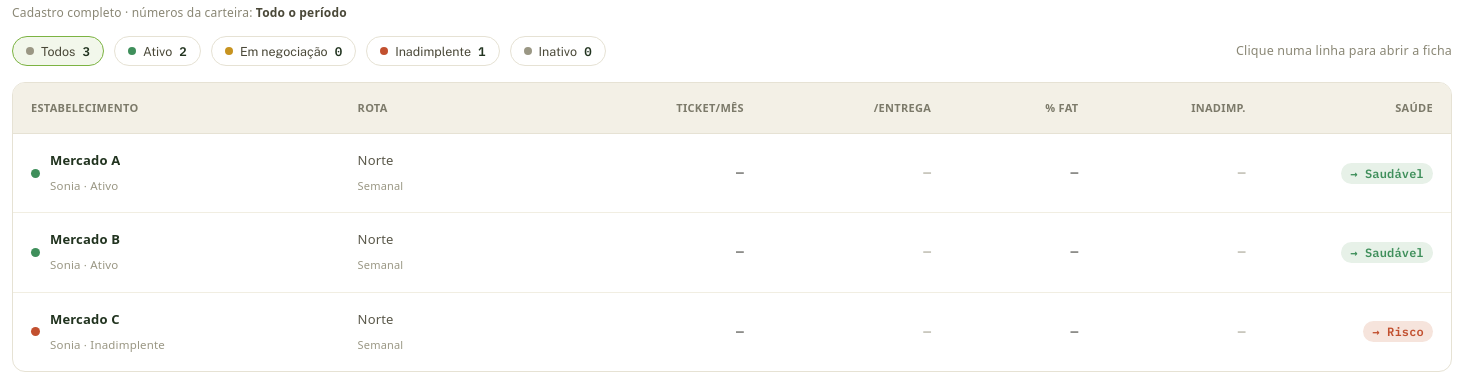
Test: ClientesLista — filtro por status › voltar para "Todos" mostra todos os clientes de novo
Expected: the text "Mercado A" is shown, [50,147,120,173]
Click the button "Ativo 2" at (157, 51), box [114,36,201,66]
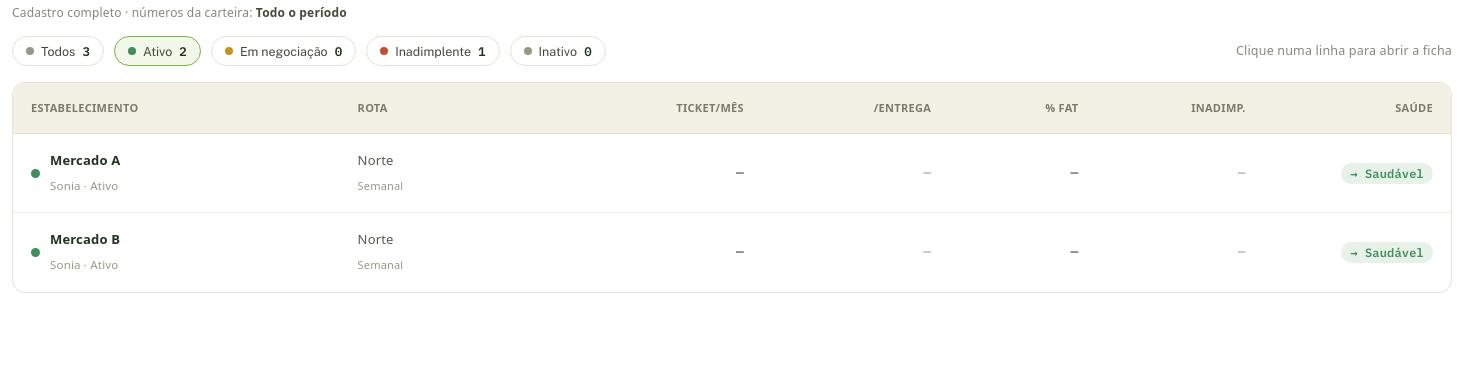
Result: the text "Mercado C" is gone
Click the button "Todos 3" at (58, 51), box [12,36,104,66]
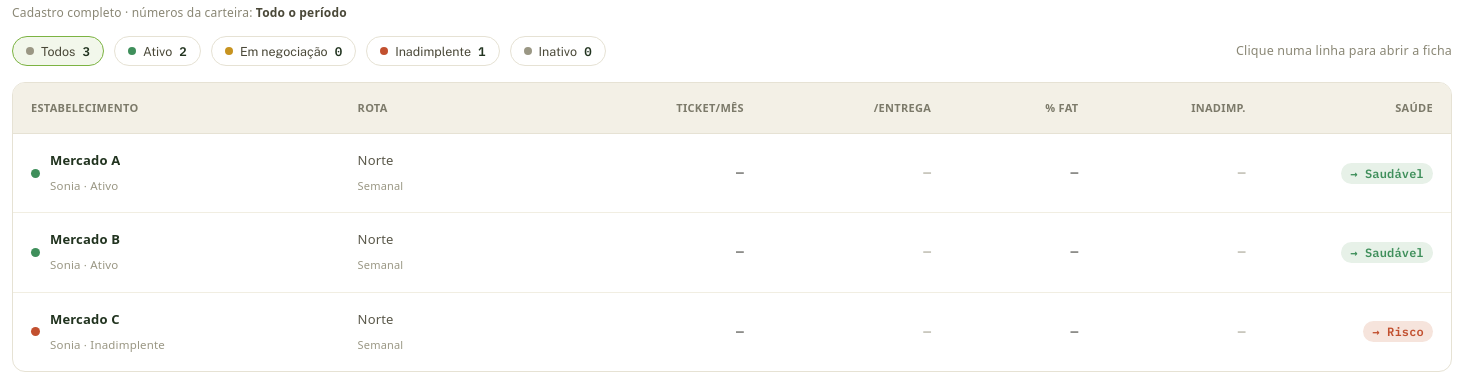
Expected: the text "Mercado A" is shown, [50,147,120,173]
Result: the text "Mercado C" is shown at [50,310,120,328]
